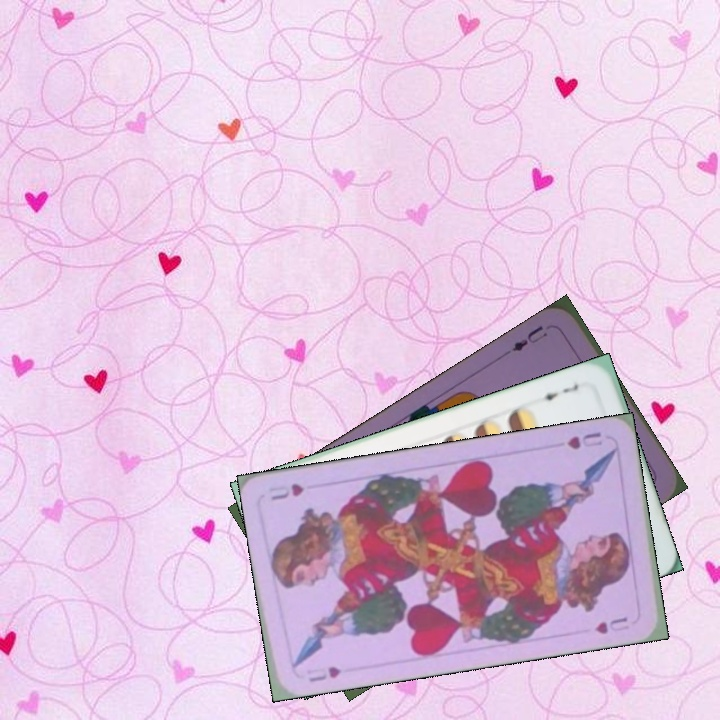E7: (534, 378, 582, 403)
EU: (507, 321, 551, 355)
HU: (563, 428, 605, 452), (305, 662, 344, 685)
